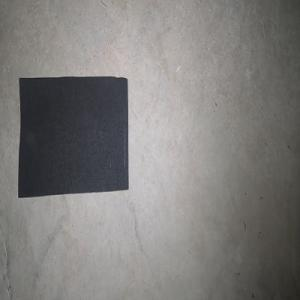PaintChip: (18, 75, 128, 198)
